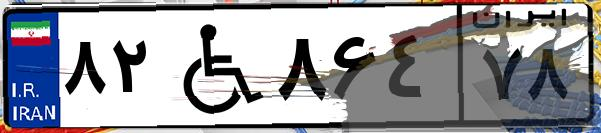2: (110, 28, 158, 98)
4: (385, 28, 445, 110)
6: (330, 28, 385, 110)
7: (475, 38, 525, 113)
8: (270, 28, 330, 110), (57, 26, 110, 100), (525, 38, 570, 115)
ژ (معلولین و جانبازان): (158, 12, 270, 120)
